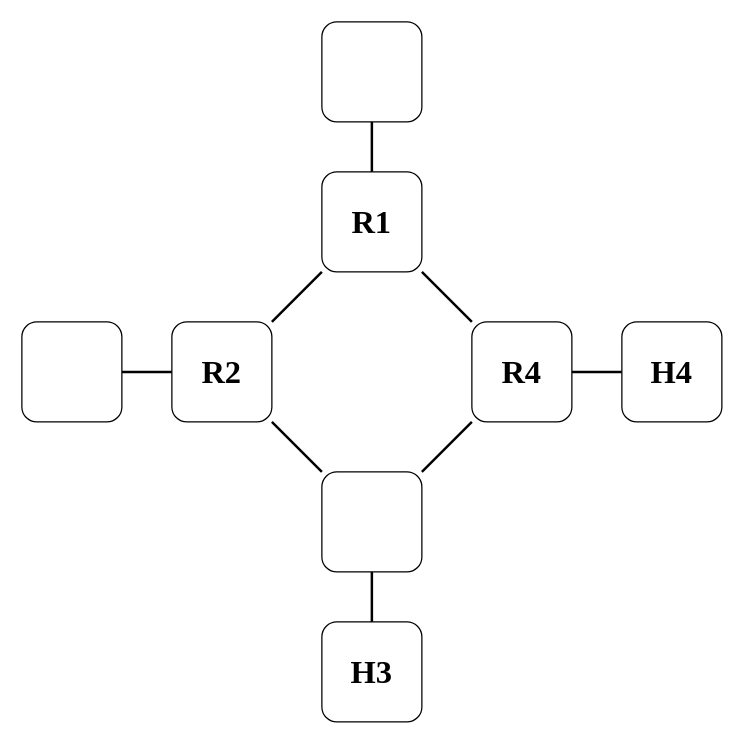
Some shapes in this 744 by 744 pixel diagram are drawn without their labels. The centre of each missing label's shape, as x and y in pixels:
"H1" goes at pixel 371 71.
"H2" goes at pixel 71 371.
"R3" goes at pixel 371 521.
